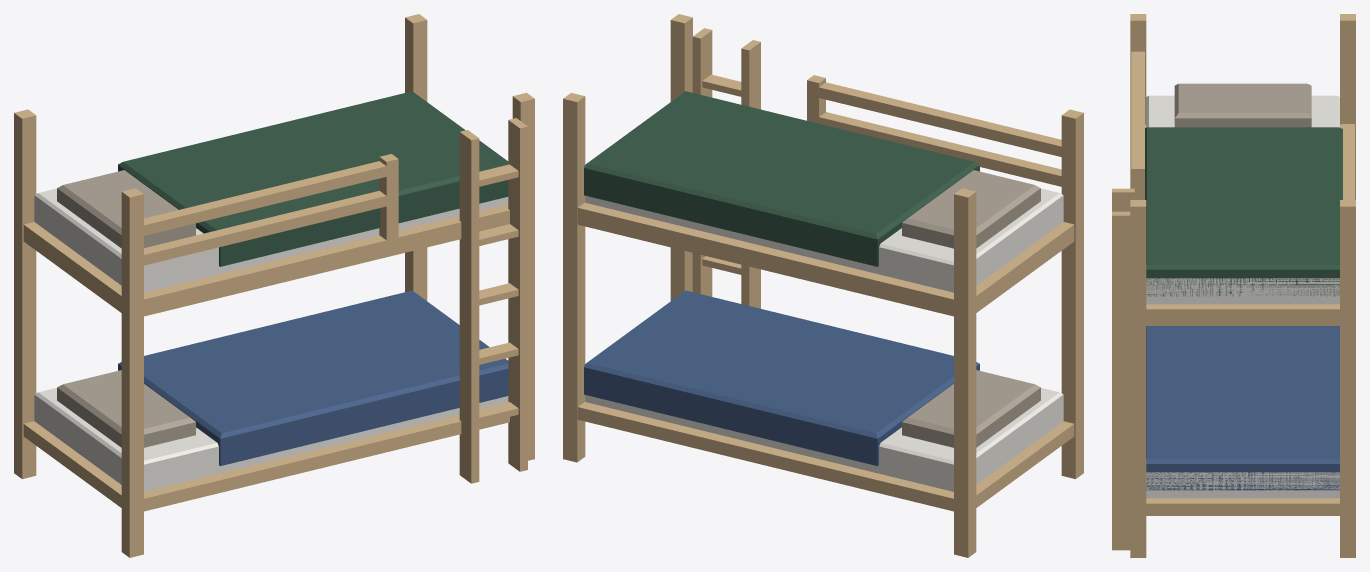
File: FN_Bed_Bunk.obj
3 views of the same model, side by side, from view 1: azimuth 30°, elevation 25°; view 2: azimuth 150°, elevation 25°; view 3: azimuth 270°, elevation 25° (orthographic). The views are drawn at different scales.
Parts seen in each view (by area): view 1: FN_Bed_Bunk; view 2: FN_Bed_Bunk; view 3: FN_Bed_Bunk.
Part boxes in pixels (<box>): FN_Bed_Bunk: <box>14,14,534,557</box>; FN_Bed_Bunk: <box>563,14,1083,557</box>; FN_Bed_Bunk: <box>1112,14,1355,557</box>.
Size of the model in its own units: 2 by 1.7 by 1.07.
1 material, 1 textured.
